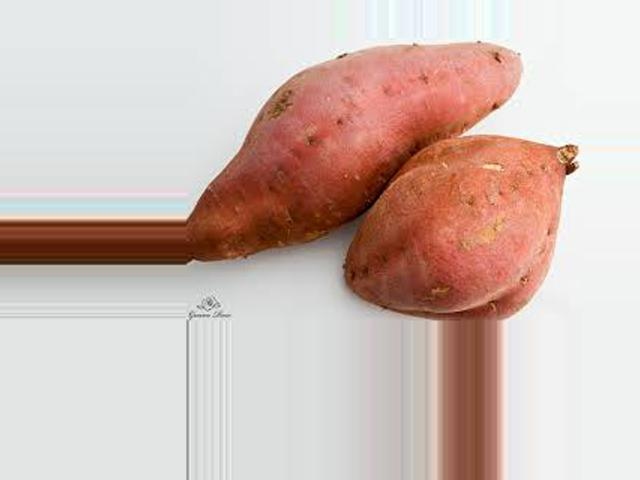sweet_potato: (356, 150, 580, 296)
